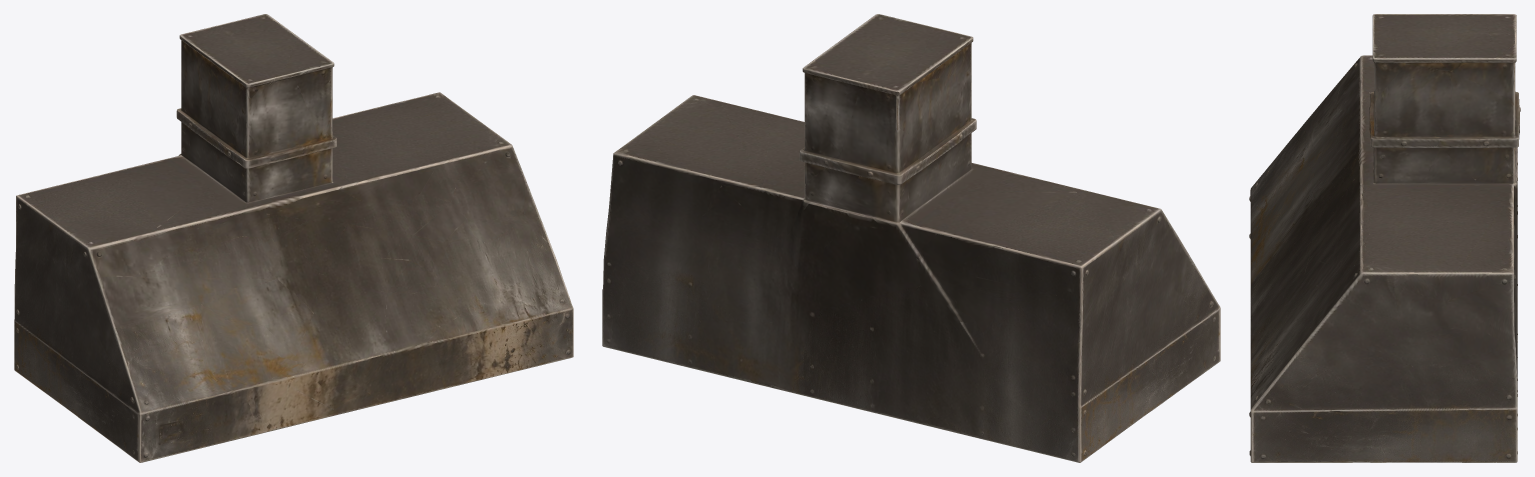
File: k_hood.glb
3 renders of one model, left to right at view 1: azimuth 30°, elevation 25°; view 2: azimuth 150°, elevation 25°; view 3: azimuth 270°, elevation 25°, orthographic. The views are drawn at different scales.
Bounding box in the file's own units: 1.9 × 1.24 × 0.9757.
Materials: 1 (1 with a texture image).
